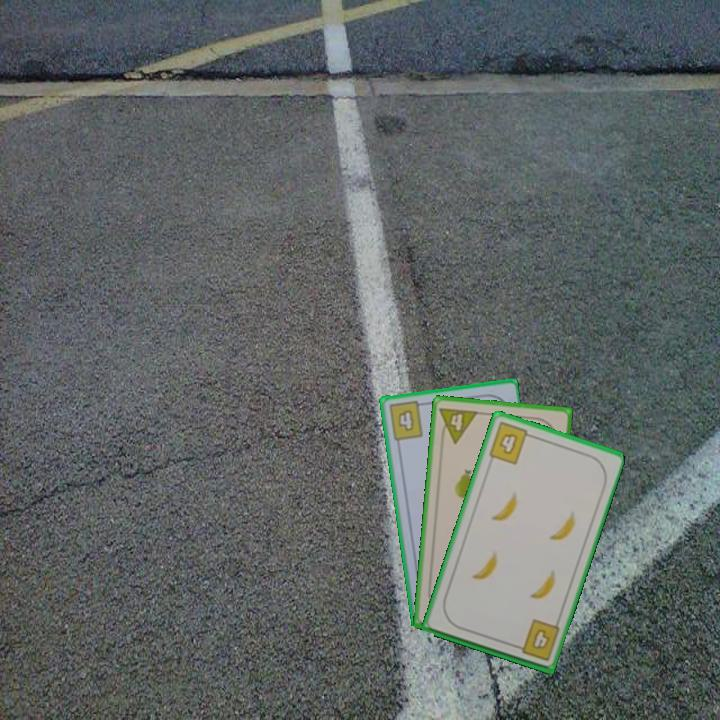4b: (485, 418, 537, 467), (510, 616, 563, 663), (385, 398, 429, 443)
4p: (436, 404, 481, 446)
